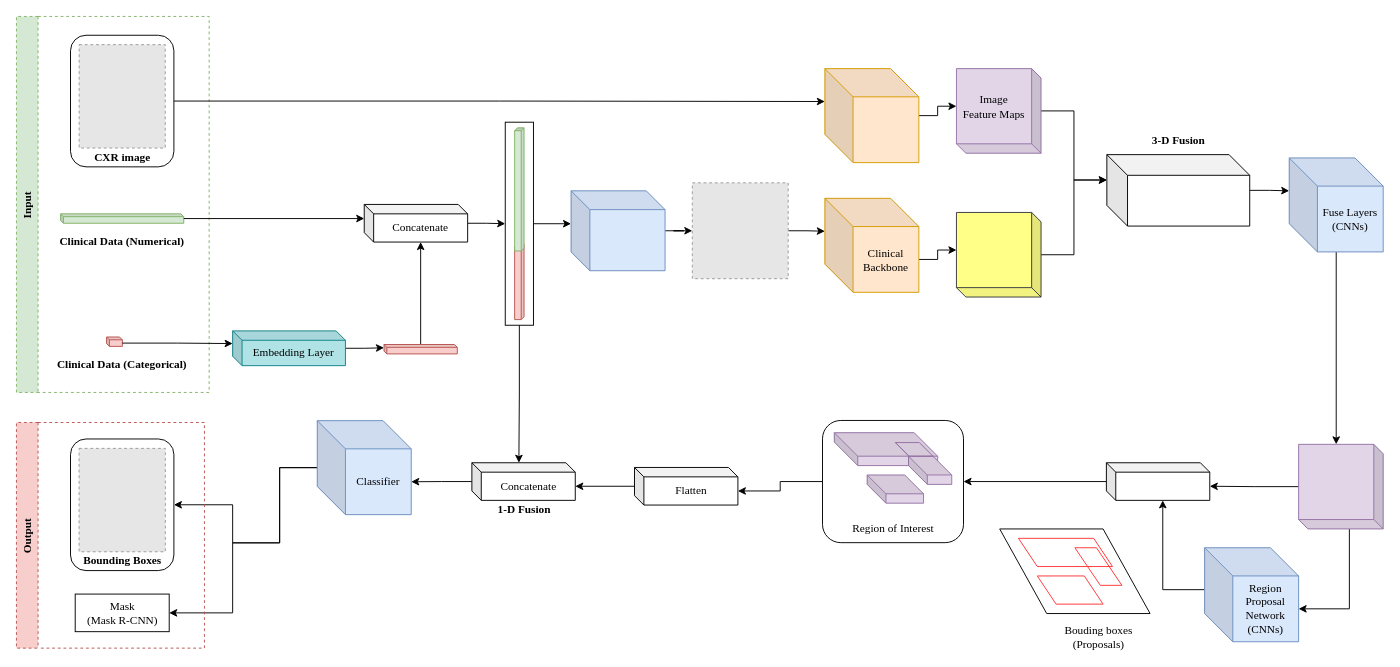
Some shapes in this 1400 by 667 pixel diagram are drawn without their labels. Grey dashed boxes stand in for pictures. The box of each missing label's shape, as (x1, y1, x2, y2) in pixels:
Clinical Feature Maps: (956, 212, 1041, 297)
Concatenate or Elementwise-sum: (1106, 154, 1250, 226)
Fused Feature Maps: (1298, 443, 1383, 529)
Image Backbone: (824, 68, 919, 163)
ROI Pooling: (1105, 462, 1210, 500)
Spatialisatoin: (570, 190, 665, 271)
